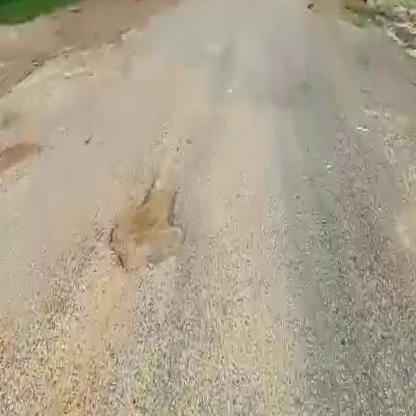pothole: (105, 188, 187, 276), (0, 135, 43, 187)
